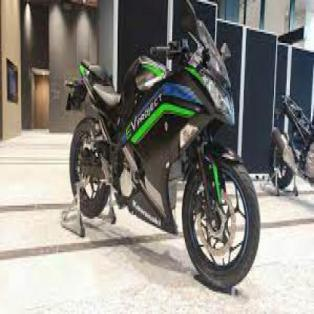Motocicleta: (54, 0, 261, 287)
